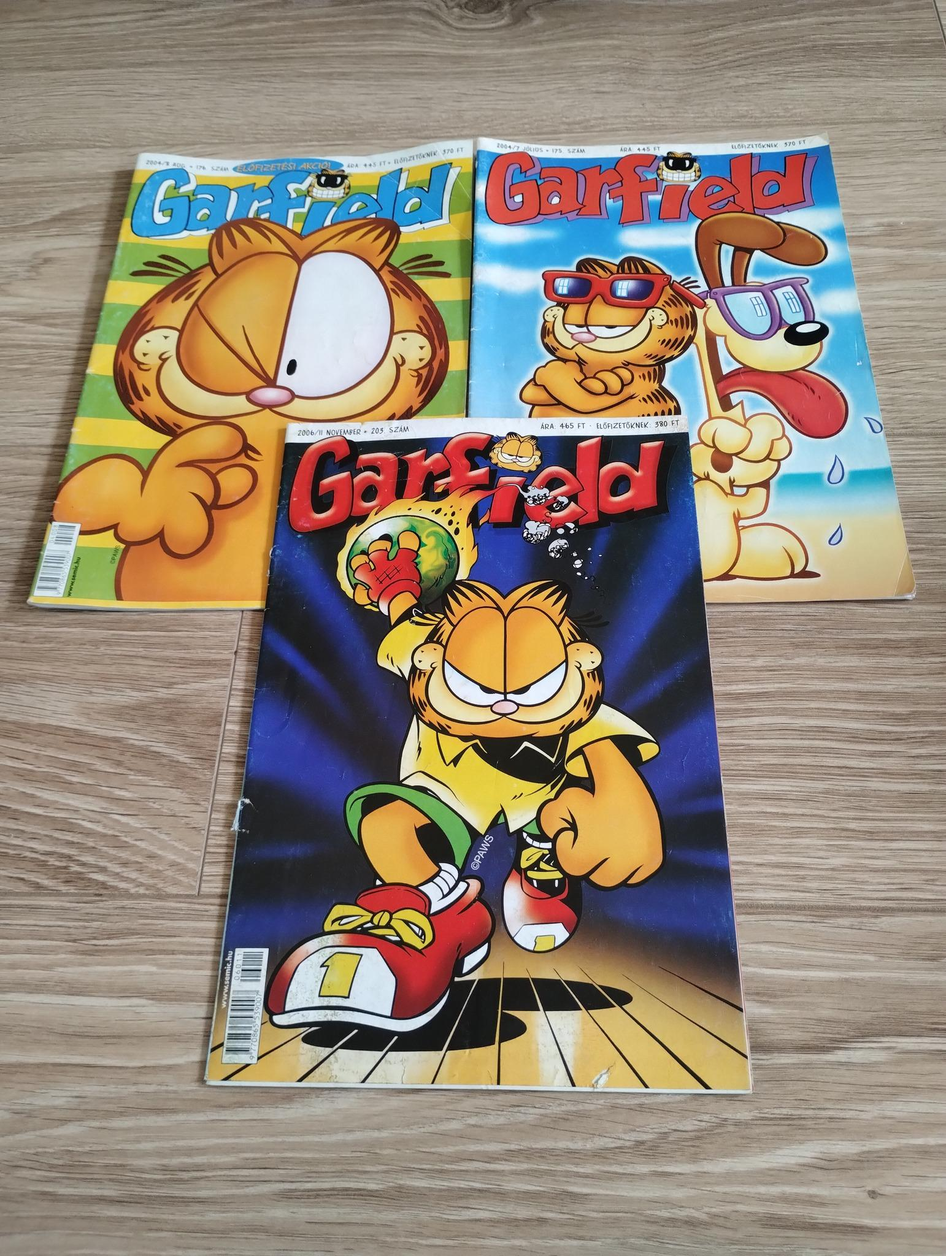comic: (207, 416, 749, 1090), (29, 134, 473, 614), (466, 136, 914, 604)
